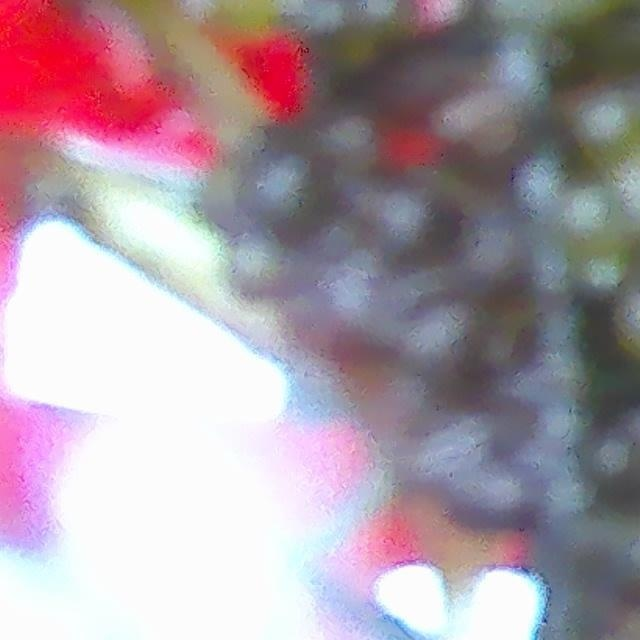SeaGrape: (412, 301, 503, 394), (247, 162, 337, 251), (369, 196, 462, 270), (579, 243, 627, 290), (529, 241, 572, 290)
